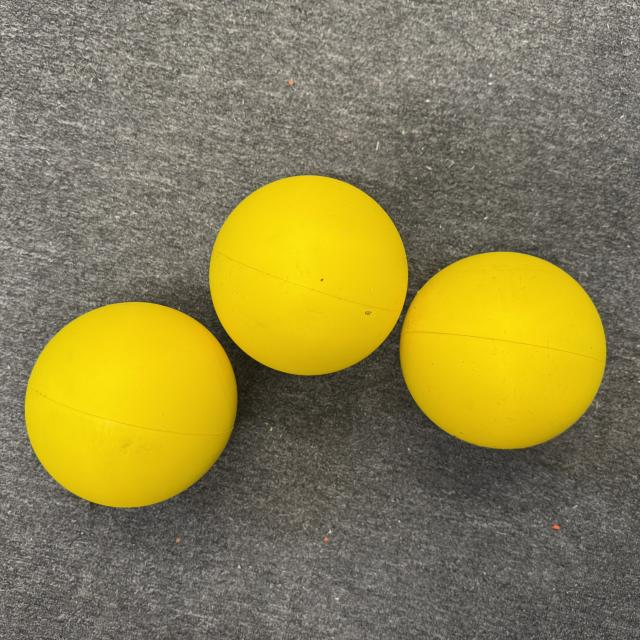Fuel: (24, 300, 238, 509), (399, 251, 607, 450), (209, 175, 409, 376)
